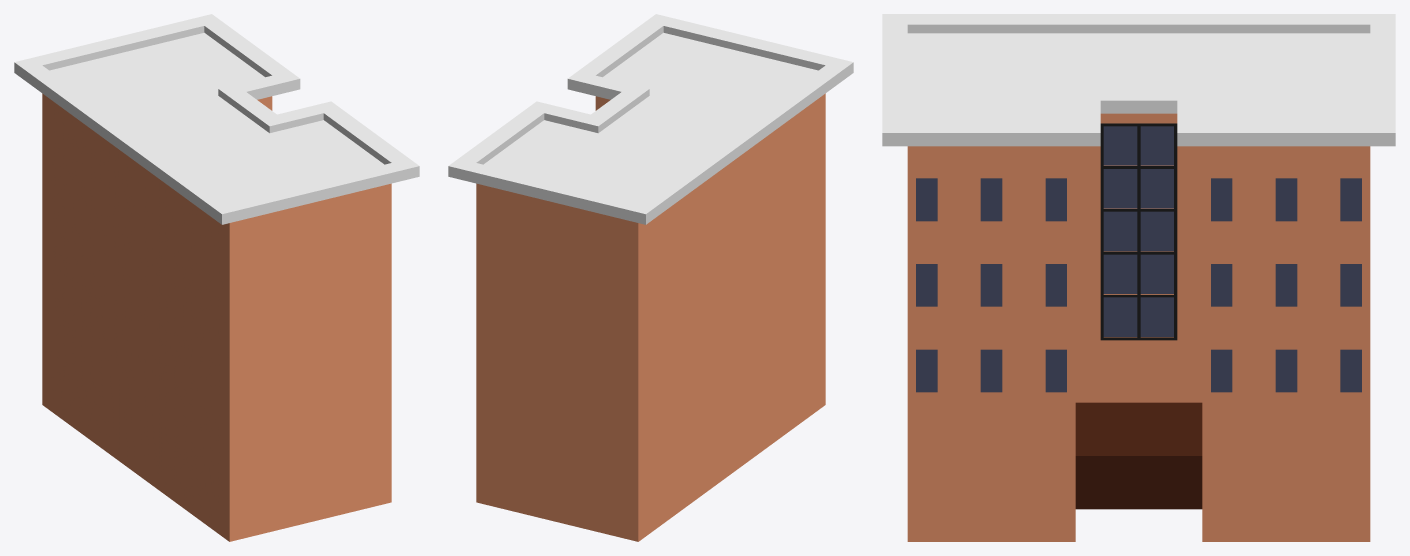
The model's file is House1.fbx.
The picture shows the model from 3 angles, left to right: view 1: azimuth 30°, elevation 25°; view 2: azimuth 150°, elevation 25°; view 3: azimuth 270°, elevation 25°; orthographic projection. The views are drawn at different scales.
Visible parts, largest first — view 1: Cube.046; view 2: Cube.046; view 3: Cube.046.
Part boxes in pixels (x1,y1,x2,y2): Cube.046: (14, 14, 419, 541); Cube.046: (448, 14, 853, 541); Cube.046: (882, 14, 1395, 541).
Bounding box in the file's own units: 101 × 166 × 184.
